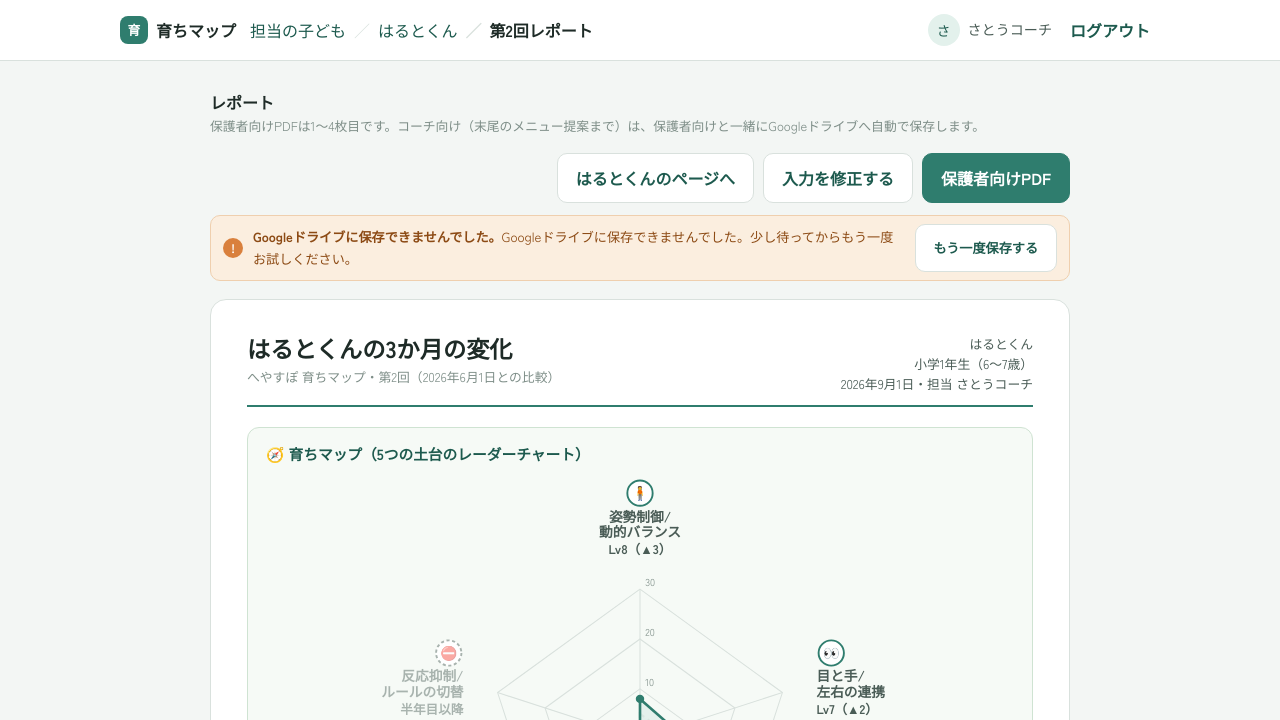
Scenario: レポート › Googleドライブに保存できなかったときは理由を示し、もう一度保存できる
The width and height of the screenshot is (1280, 720).
Expected: the message shows "少し待ってからもう一度お試しください。", [253,227,893,268]
Click the button "もう一度保存する": (986, 248) [914,224,1057,272]
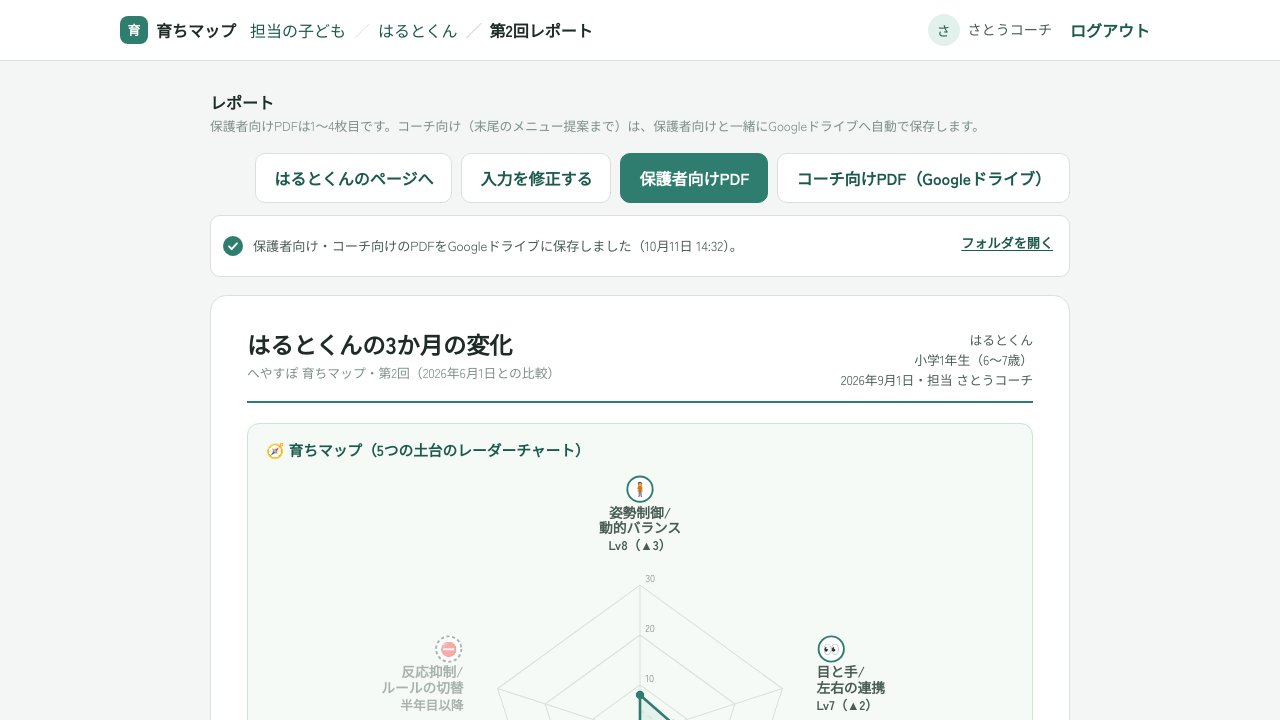
Expected: the text "保護者向け・コーチ向けのPDFをGoogleドライブに保存しました（10月11日 14:32）。" is shown, [253,236,743,255]
